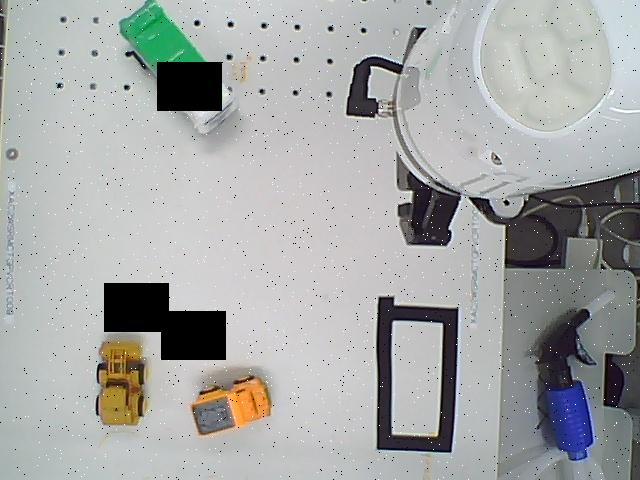Diesel car: (185, 356, 275, 437)
Electric car: (113, 0, 244, 143)
Gasoline car: (91, 332, 154, 434)
